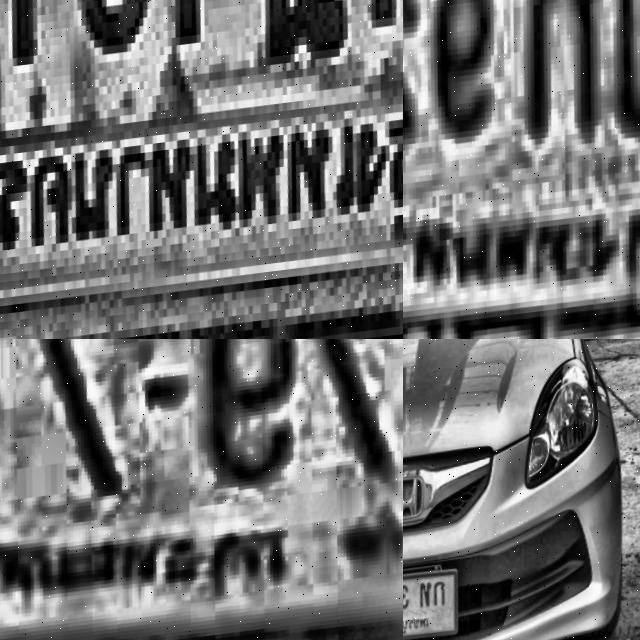license-plate: (0, 0, 403, 339), (0, 339, 403, 640), (403, 0, 640, 339), (403, 561, 478, 640)
